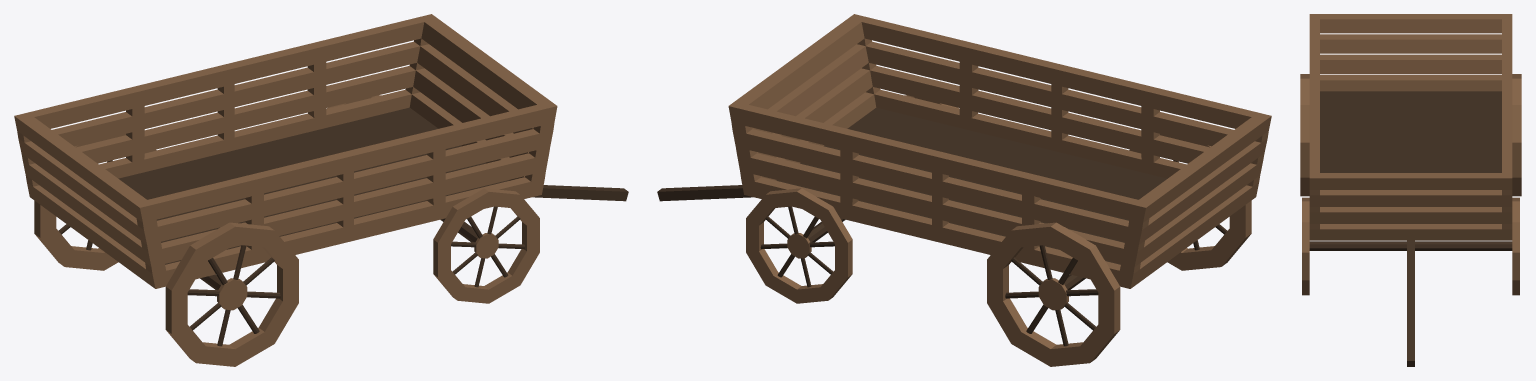
Rendered from Wagon.fbx.
The picture shows the model from 3 angles, left to right: view 1: azimuth 30°, elevation 25°; view 2: azimuth 150°, elevation 25°; view 3: azimuth 270°, elevation 25°; orthographic projection. The views are drawn at different scales.
Parts seen in each view (by area): view 1: Wagon; view 2: Wagon; view 3: Wagon.
Boxes of the visible parts, <box> form: Wagon: <box>14,14,628,366</box>; Wagon: <box>657,14,1271,366</box>; Wagon: <box>1300,14,1521,366</box>.
Size of the model in its own units: 136 by 41.69 by 58.77.
